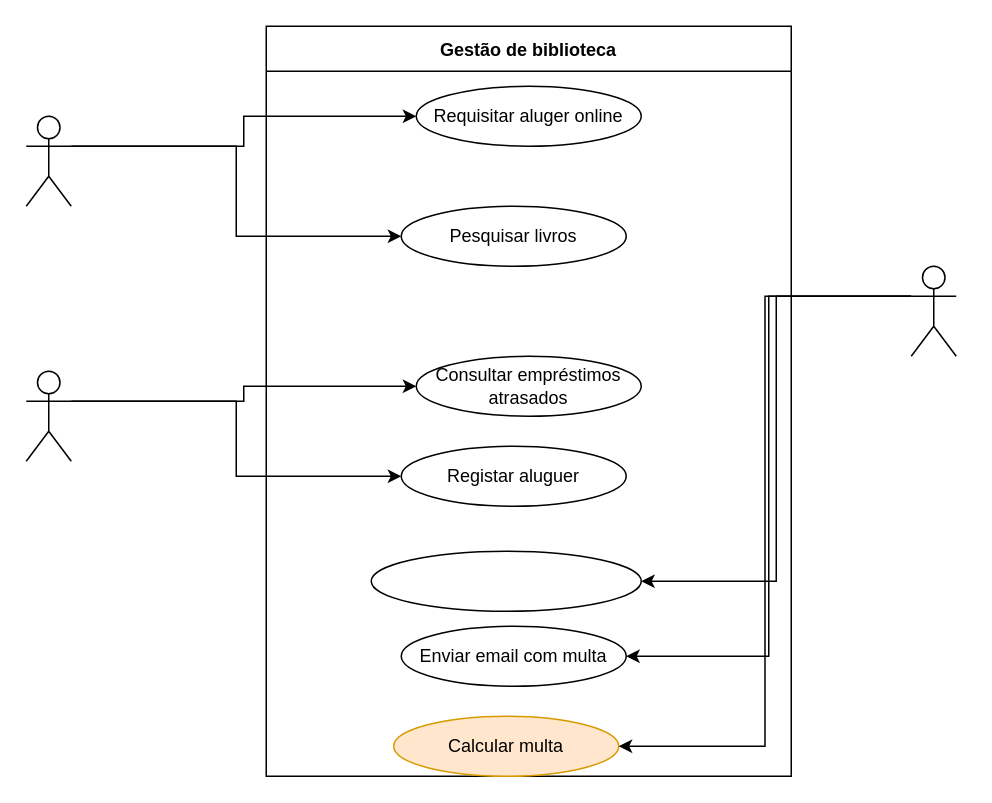
Image size: 992x803. Some labels were removed from this diagram. Here are the shapes that lost their labels. From the top down, the centre of each, then its label:
(48,160): Aluno
(933,310): Sistema
(48,415): Staff
(505,580): Enviar notificação de disponibilidade
